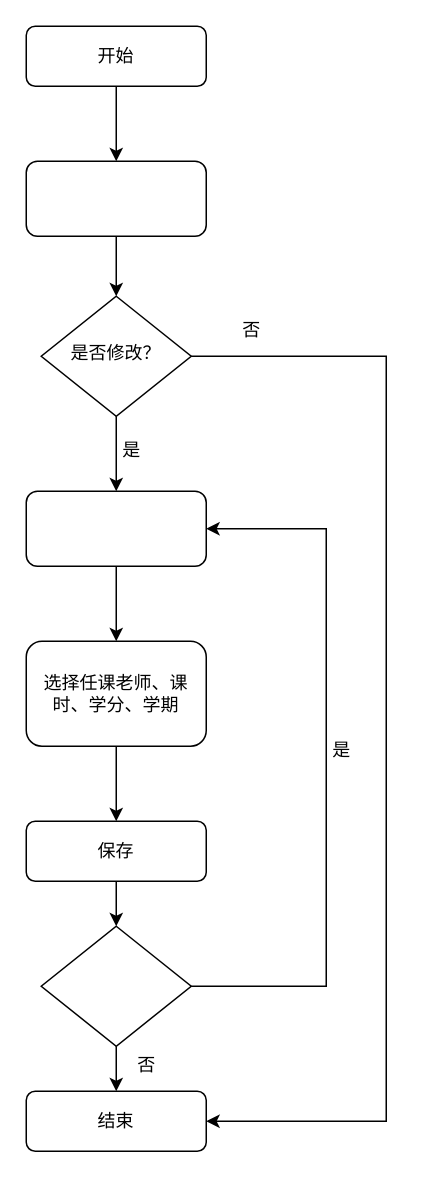
Some shapes in this 425 by 1178 pixel diagram are drawn without their labels. Here are the shapes that lost their labels. From the top down, the centre of each, then its label:
At point 115,198: "展示已有课程".
At point 115,528: "输入课程编号、名称".
At point 115,985: "编号、名称是否重复".
